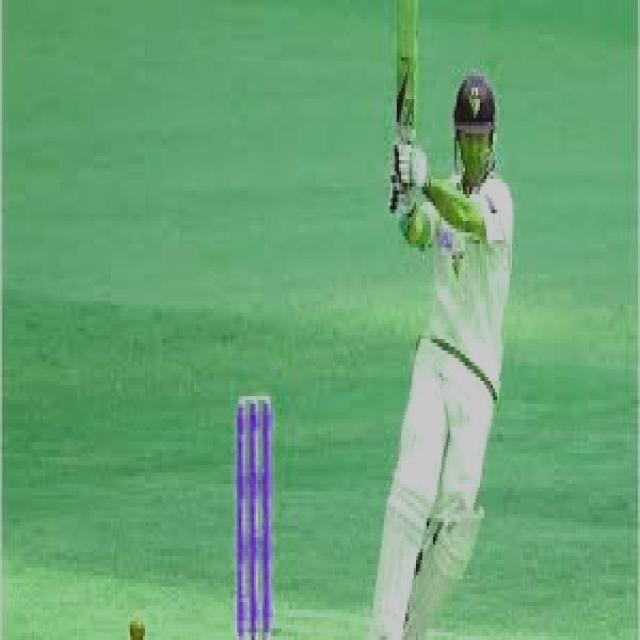toe: (395, 0, 408, 6)
